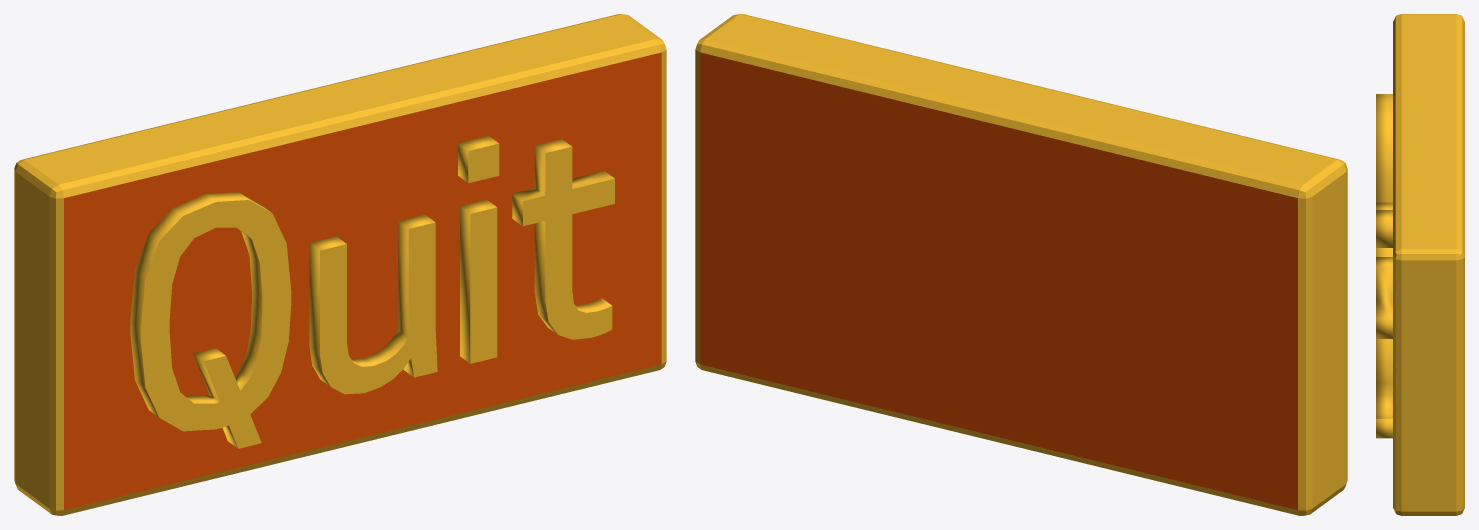
File: Quit Button.fbx
3 views of the same model, side by side, from view 1: azimuth 30°, elevation 25°; view 2: azimuth 150°, elevation 25°; view 3: azimuth 270°, elevation 25° (orthographic). The views are drawn at different scales.
Visible parts, largest first — view 1: QuitButton; view 2: QuitButton; view 3: QuitButton.
Boxes of the visible parts, box(x1,y1,x2,y2) form: QuitButton: box(14, 14, 666, 515); QuitButton: box(695, 14, 1347, 515); QuitButton: box(1376, 14, 1464, 515).
Bounding box in the file's own units: 1.93 × 0.9895 × 0.2988.
